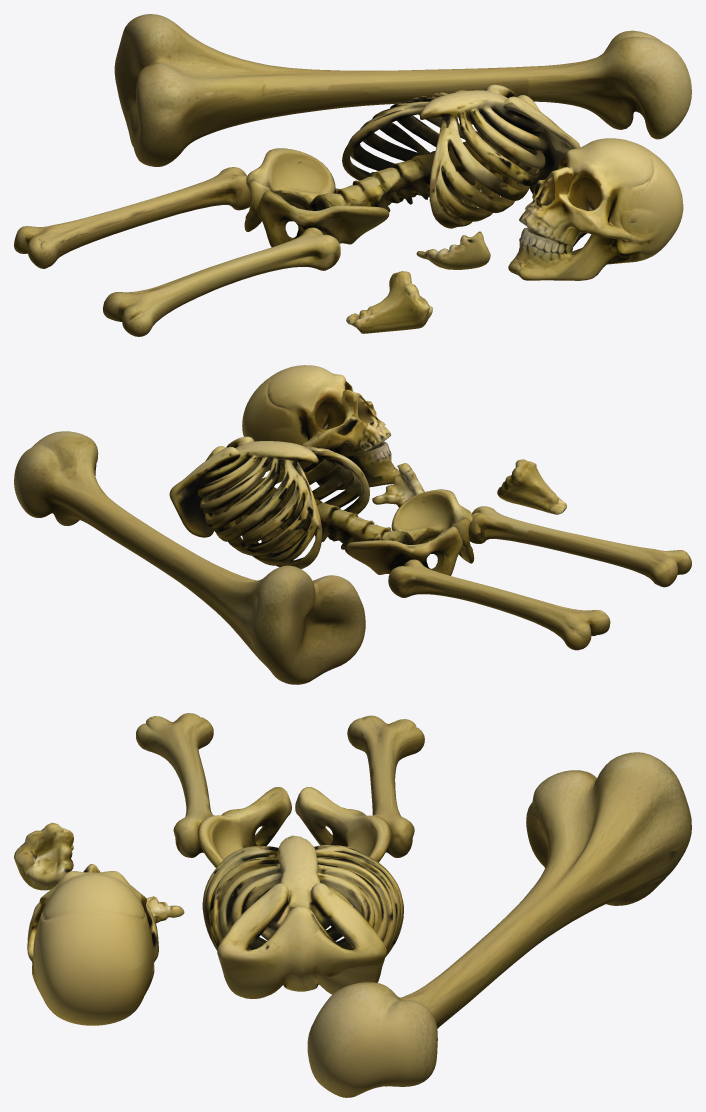
The model's file is RandomBones.glb.
3 renders of one model, top to bottom at view 1: azimuth 30°, elevation 25°; view 2: azimuth 150°, elevation 25°; view 3: azimuth 270°, elevation 25°, orthographic. The views are drawn at different scales.
Parts seen in each view (by area): view 1: node_0; view 2: node_0; view 3: node_0.
Part boxes in pixels (<box>): node_0: <box>14,14,691,336</box>; node_0: <box>14,365,691,684</box>; node_0: <box>14,713,691,1097</box>.
Size of the model in its own units: 1.08 by 0.2087 by 0.8633.
Materials: 1 (1 with a texture image).
